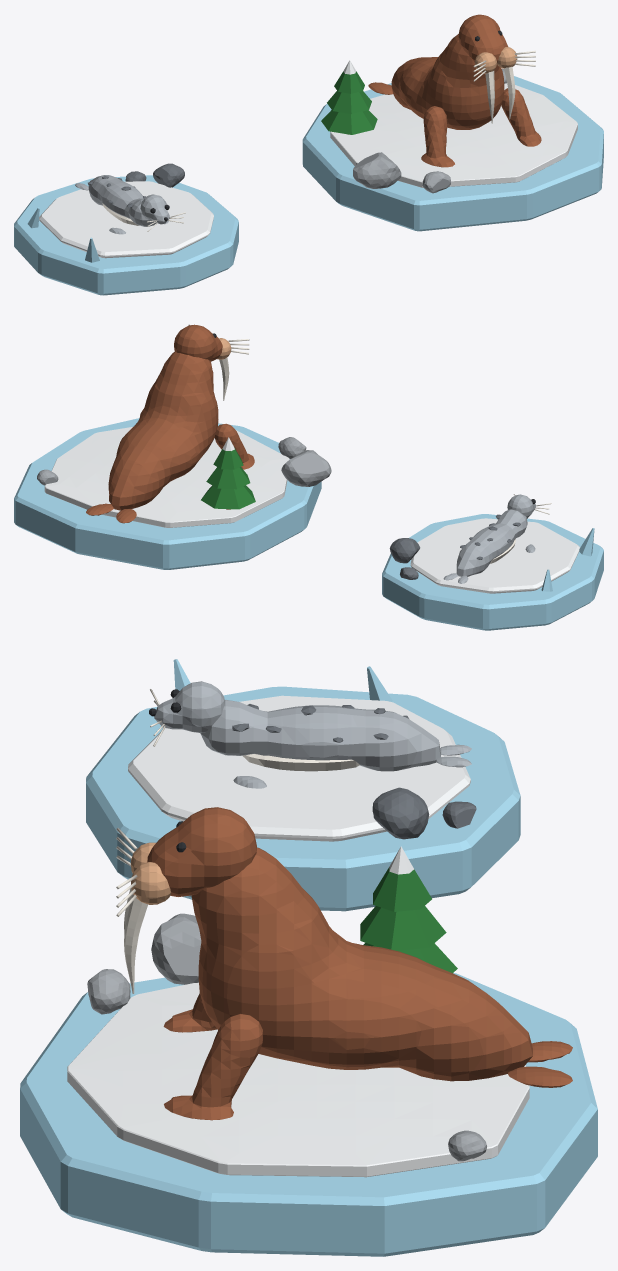
File: seal-and-walrus-floes.glb
3 views of the same model, one above another, from view 1: azimuth 30°, elevation 25°; view 2: azimuth 150°, elevation 25°; view 3: azimuth 270°, elevation 25° (orthographic). The views are drawn at different scales.
Parts seen in each view (by area): view 1: WalrusFloe_Ice, WalrusFloe_Snow, SealFloe_Ice, SealFloe_Snow, Walrus_Body, Seal_Body, Walrus_Head, Walrus_Flipper_R, WalrusFloe_Rock1, Walrus_Flipper_L, WalrusFloe_Pine_Tier0, WalrusFloe_Pine_Tier1 (+4 smaller); view 2: WalrusFloe_Ice, Walrus_Body, WalrusFloe_Snow, SealFloe_Ice, SealFloe_Snow, Seal_Body, WalrusFloe_Rock1, Walrus_Head, WalrusFloe_Pine_Tier0, WalrusFloe_Pine_Tier1, Walrus_Flipper_R, SealFloe_Rock1 (+3 smaller); view 3: WalrusFloe_Ice, WalrusFloe_Snow, Walrus_Body, SealFloe_Ice, SealFloe_Snow, Seal_Body, Walrus_Head, Walrus_Flipper_L, WalrusFloe_Pine_Tier1, WalrusFloe_Rock1, Seal_Head, SealFloe_Rock1 (+8 smaller).
Part boxes in pixels (x1,y1,x2,y2): WalrusFloe_Ice: (302, 76, 603, 231); WalrusFloe_Snow: (330, 83, 577, 187); SealFloe_Ice: (14, 175, 238, 295); SealFloe_Snow: (39, 181, 213, 258); Walrus_Body: (391, 34, 504, 129); Seal_Body: (88, 175, 156, 226); Walrus_Head: (458, 14, 508, 64); Walrus_Flipper_R: (421, 106, 454, 167); WalrusFloe_Rock1: (353, 152, 401, 188); Walrus_Flipper_L: (501, 88, 541, 146); WalrusFloe_Pine_Tier0: (321, 110, 377, 134); WalrusFloe_Pine_Tier1: (327, 91, 371, 113); WalrusFloe_Ice: (14, 418, 321, 569); Walrus_Body: (108, 351, 218, 510); WalrusFloe_Snow: (44, 427, 289, 527); SealFloe_Ice: (382, 514, 603, 630); SealFloe_Snow: (410, 518, 579, 593); Seal_Body: (456, 509, 527, 576); WalrusFloe_Rock1: (281, 450, 331, 486); Walrus_Head: (174, 324, 222, 361); WalrusFloe_Pine_Tier0: (201, 485, 255, 509); WalrusFloe_Pine_Tier1: (206, 467, 250, 489); Walrus_Flipper_R: (214, 423, 254, 469); SealFloe_Rock1: (389, 538, 420, 563); WalrusFloe_Ice: (20, 973, 597, 1256); WalrusFloe_Snow: (67, 982, 529, 1177); Walrus_Body: (191, 847, 532, 1081); SealFloe_Ice: (86, 686, 520, 911); SealFloe_Snow: (128, 695, 470, 841); Seal_Body: (200, 700, 440, 771); Walrus_Head: (147, 807, 256, 896); Walrus_Flipper_L: (164, 1013, 262, 1120); WalrusFloe_Pine_Tier1: (360, 906, 446, 950); WalrusFloe_Rock1: (151, 913, 201, 984); Seal_Head: (154, 681, 224, 733); SealFloe_Rock1: (372, 787, 429, 839).
Bounding box in the file's own units: 28.38 × 8.28 × 13.22.
